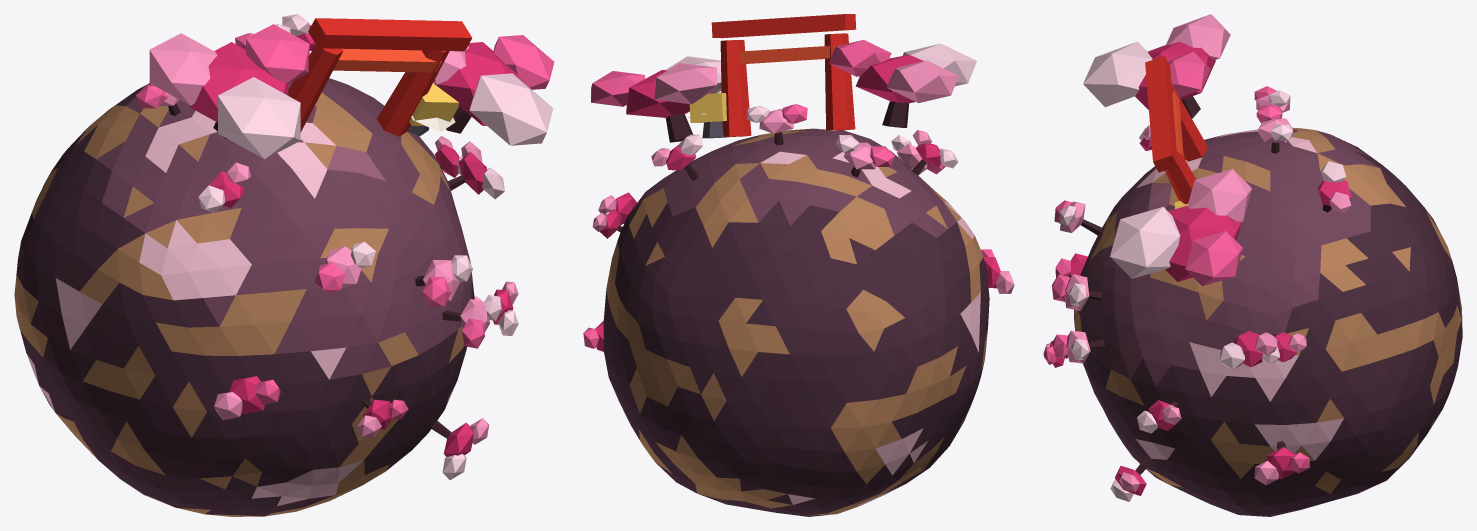
File: Sakura_02.fbx
3 views of the same model, side by side, from view 1: azimuth 30°, elevation 25°; view 2: azimuth 150°, elevation 25°; view 3: azimuth 270°, elevation 25° (orthographic). The views are drawn at different scales.
Parts seen in each view (by area): view 1: Sakura_02; view 2: Sakura_02; view 3: Sakura_02.
Part boxes in pixels (left/top/right/bottom): Sakura_02: left=14, top=14, right=554, bottom=516; Sakura_02: left=583, top=14, right=1014, bottom=516; Sakura_02: left=1043, top=14, right=1462, bottom=516.
Size of the model in its own units: 7.19 by 7.63 by 6.51.
Materials: 1 (1 with a texture image).
